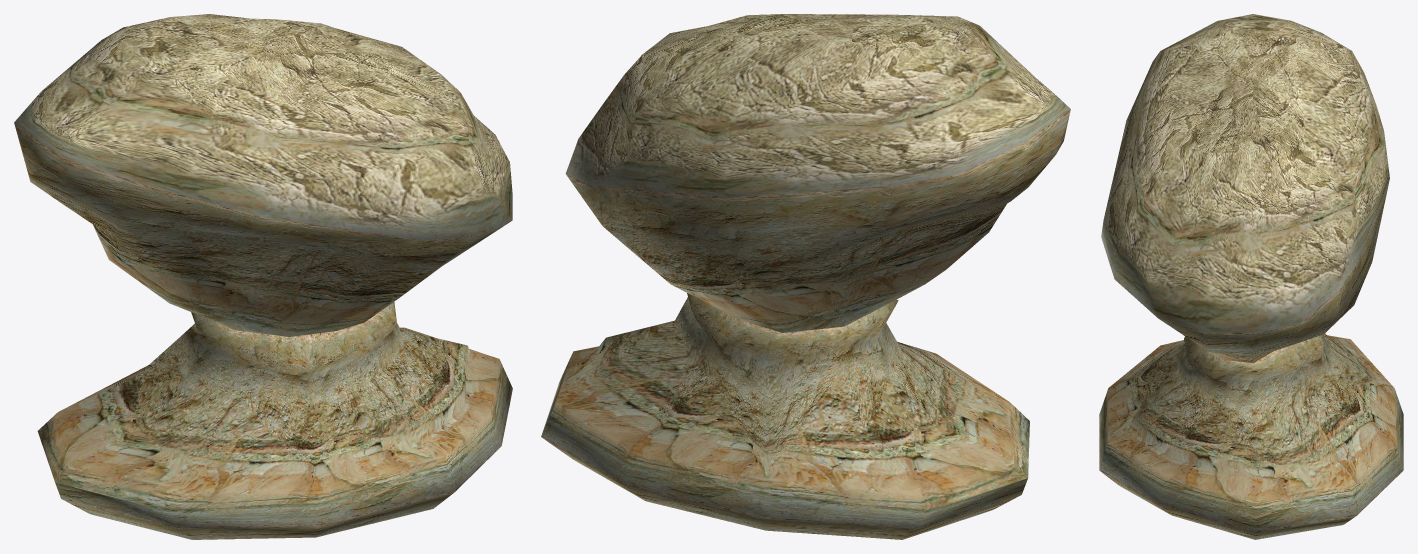
Rendered from dsrt_endr_column_a2_l0.fbx.
3 renders of one model, left to right at view 1: azimuth 30°, elevation 25°; view 2: azimuth 150°, elevation 25°; view 3: azimuth 270°, elevation 25°, orthographic. The views are drawn at different scales.
Parts seen in each view (by area): view 1: mesh_node; view 2: mesh_node; view 3: mesh_node.
Part boxes in pixels (left/top/right/bottom): mesh_node: left=14, top=14, right=512, bottom=539; mesh_node: left=541, top=14, right=1070, bottom=539; mesh_node: left=1099, top=14, right=1403, bottom=539.
Bounding box in the file's own units: 12.96 × 12.48 × 8.31.
